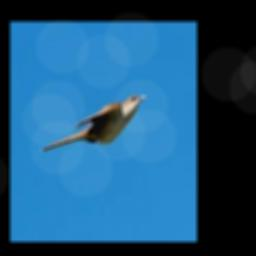Cuckoo: (42, 94, 147, 153)
